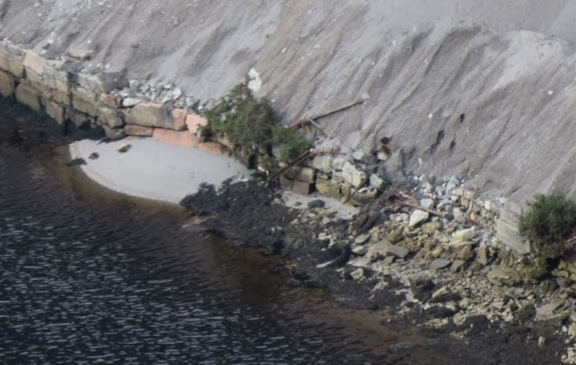straight_bar: (281, 96, 365, 132), (262, 148, 316, 189)
tube: (397, 199, 446, 219)
